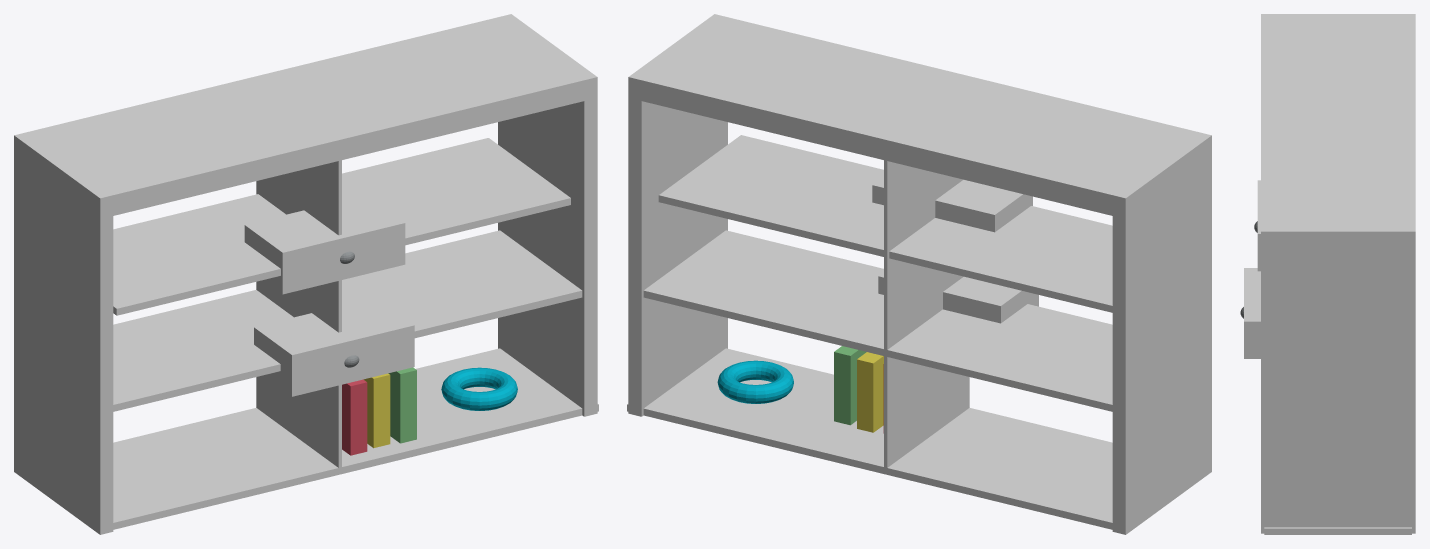
Rendered from Exquisite Curcan-Snaget (1).glb.
3 views of the same model, side by side, from view 1: azimuth 30°, elevation 25°; view 2: azimuth 150°, elevation 25°; view 3: azimuth 270°, elevation 25° (orthographic). The views are drawn at different scales.
Parts seen in each view (by area): view 1: Mesh_Mesh_head_geo.001_lambert2SG.001; view 2: Mesh_Mesh_head_geo.001_lambert2SG.001; view 3: Mesh_Mesh_head_geo.001_lambert2SG.001.
Boxes of the visible parts, <box> form: Mesh_Mesh_head_geo.001_lambert2SG.001: <box>14,14,598,534</box>; Mesh_Mesh_head_geo.001_lambert2SG.001: <box>627,14,1211,534</box>; Mesh_Mesh_head_geo.001_lambert2SG.001: <box>1240,14,1415,534</box>.
Size of the model in its own units: 151 by 97 by 51.
